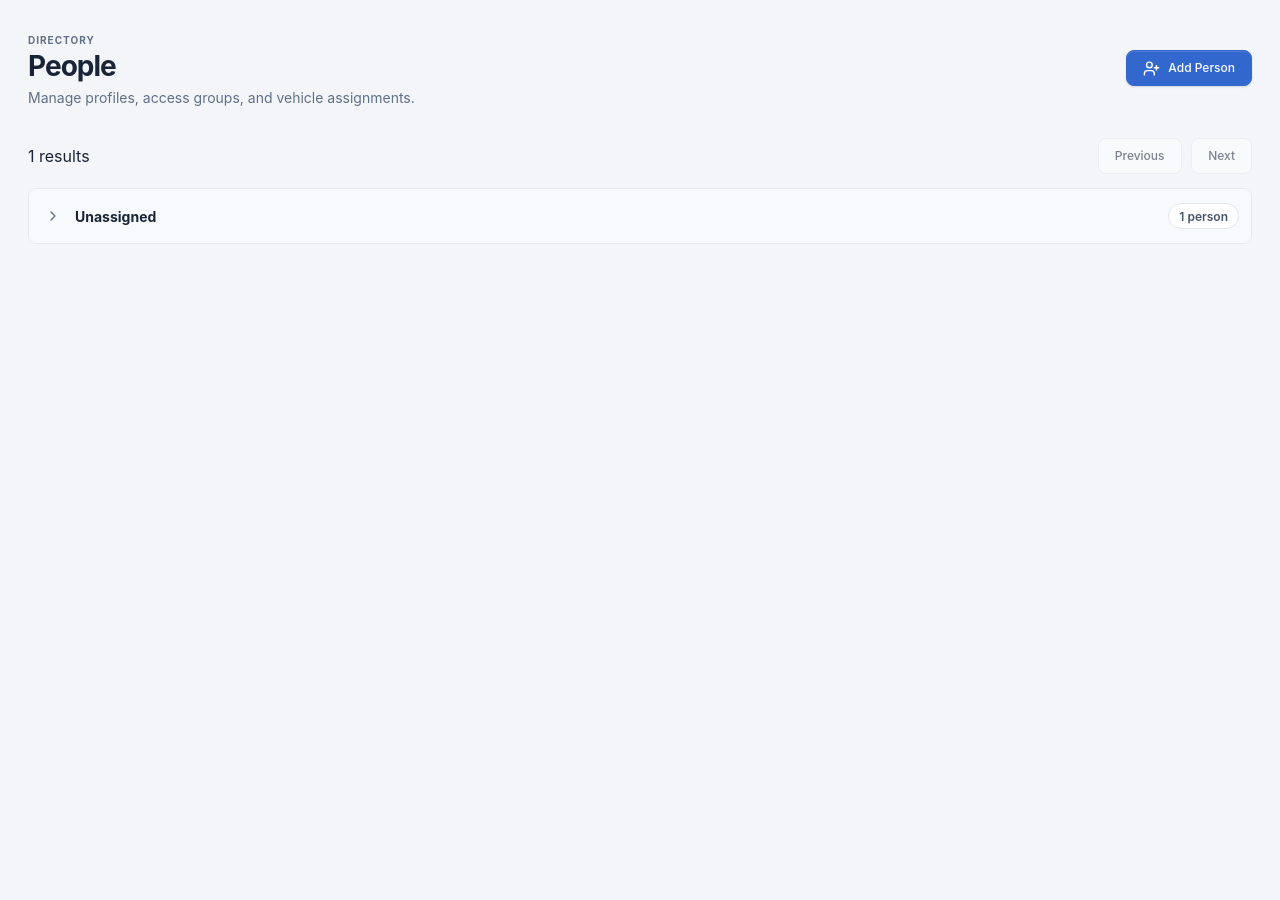
Test case: finishes a person save locally while maintenance is blocked, without misreporting its later rejection
Click the button "Unassigned 1 person". click: (116, 216)
box: [29,190,1251,244]
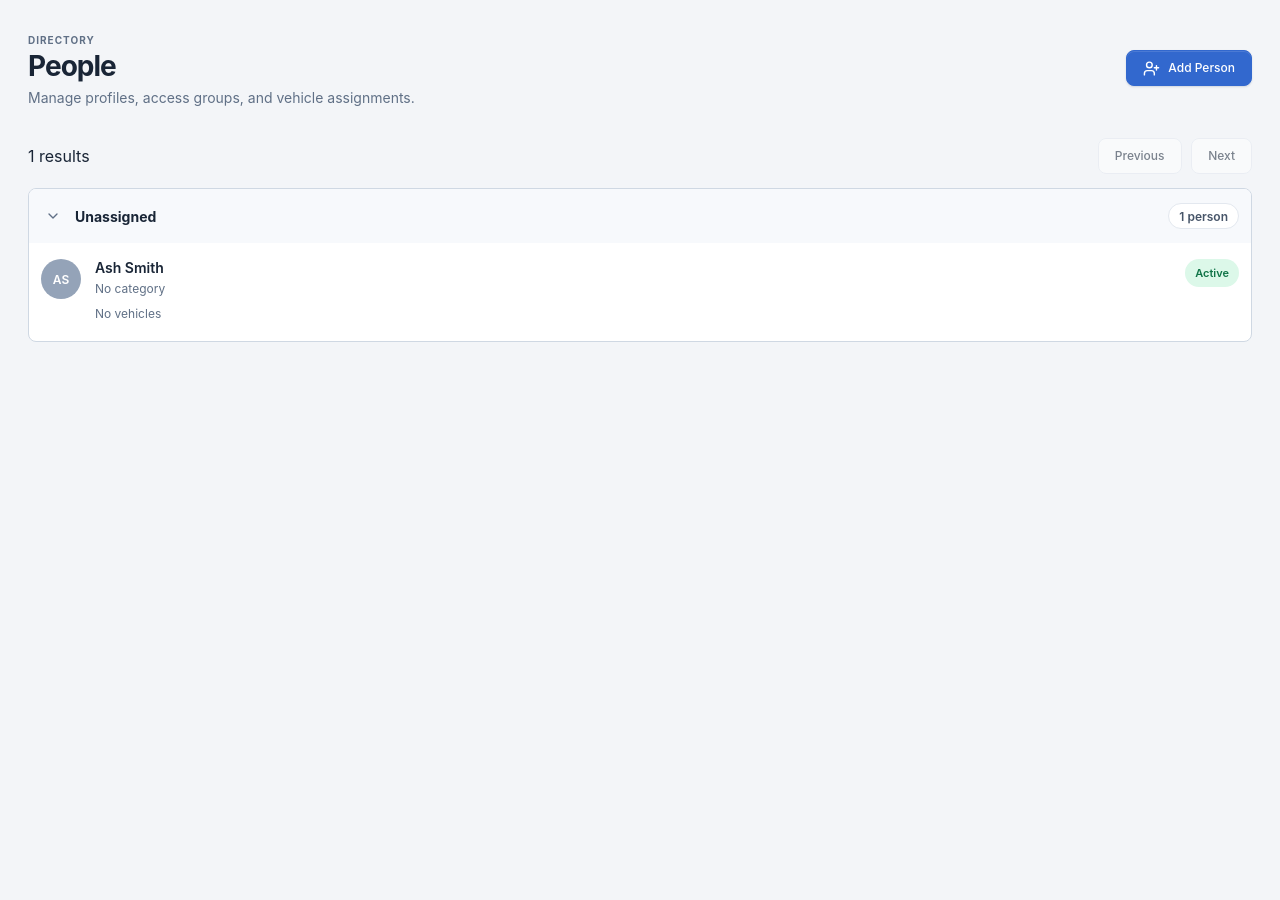
Click the button with aria-label "Edit person Ash Smith". click: (61, 279)
box: [41,248,1239,334]
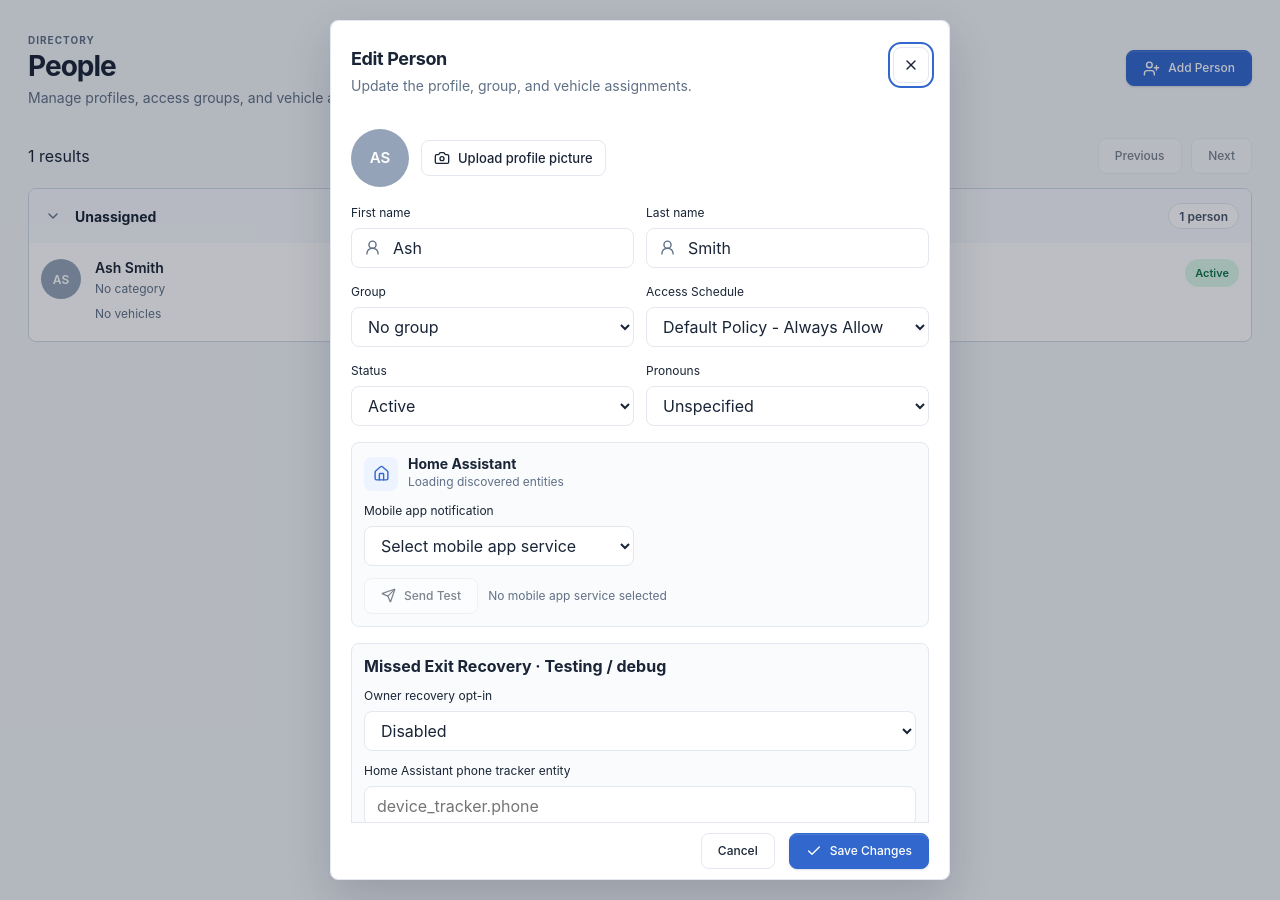
Replace the text in the field labelled "First name" with "Updated". click: (506, 248)
box: [391,237,621,259]
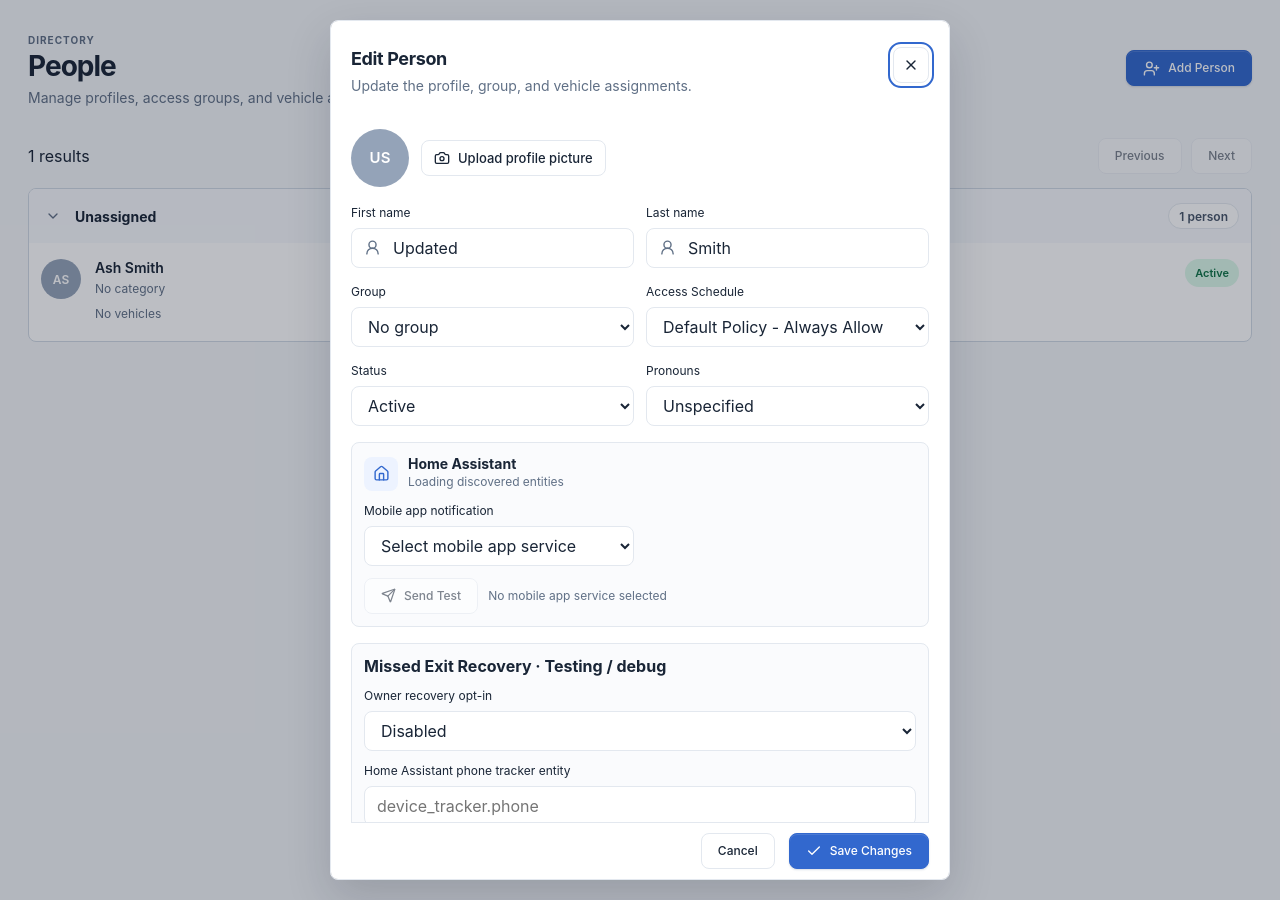
Click the button "Save Changes". click: (859, 851)
box: [789,833,929,869]
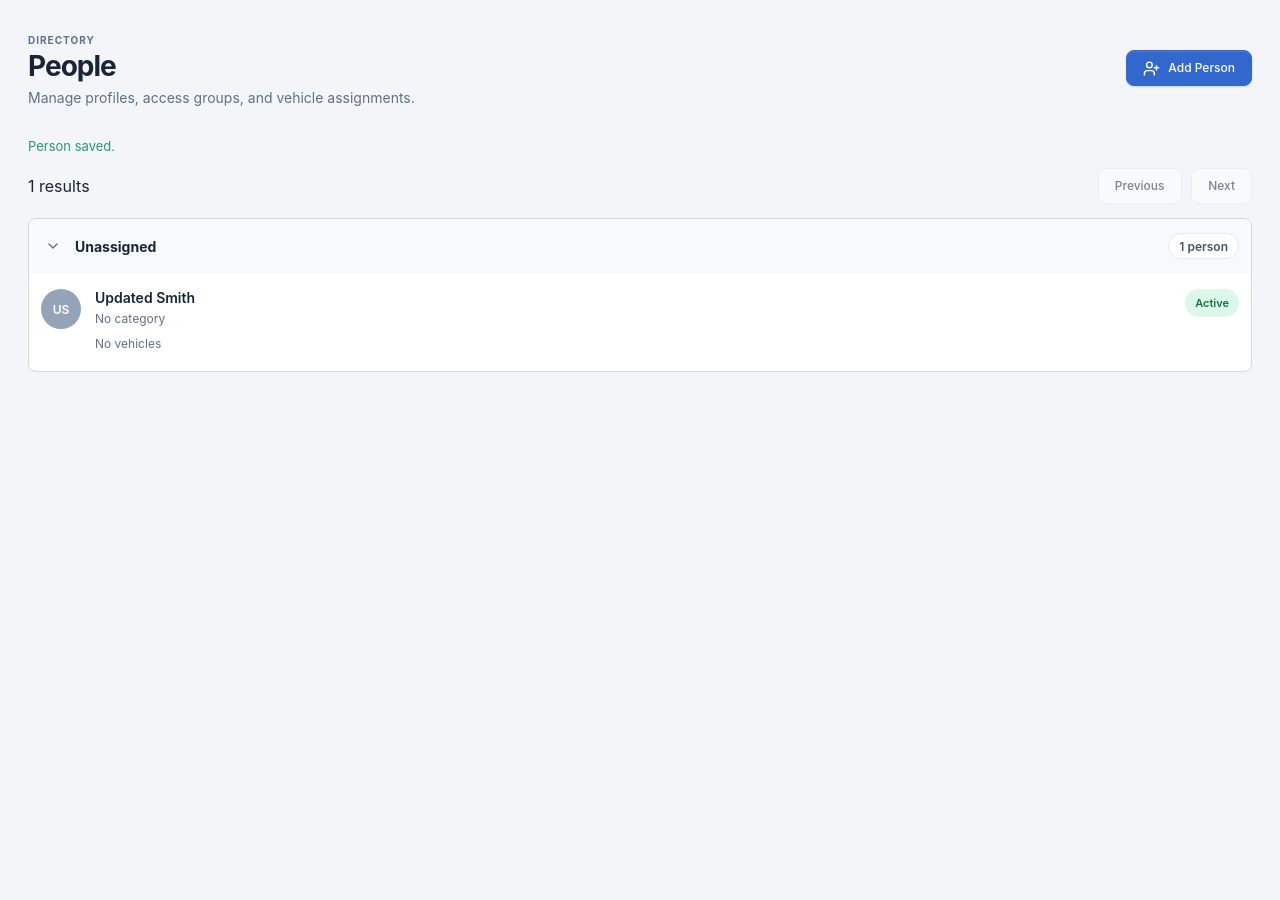
Expected: the button with aria-label "Edit person Updated Smith" is shown, [41,278,1239,364]
Expected: the text "Person saved." is shown, [28,138,115,154]
